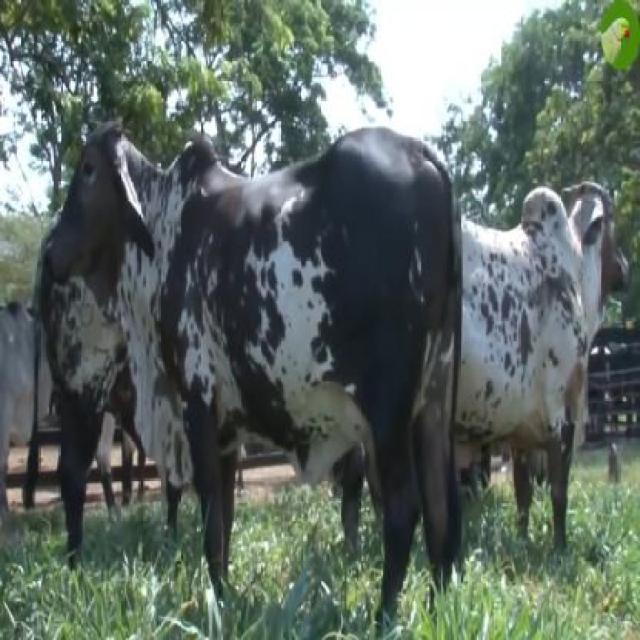Cow: (46, 110, 463, 638)
